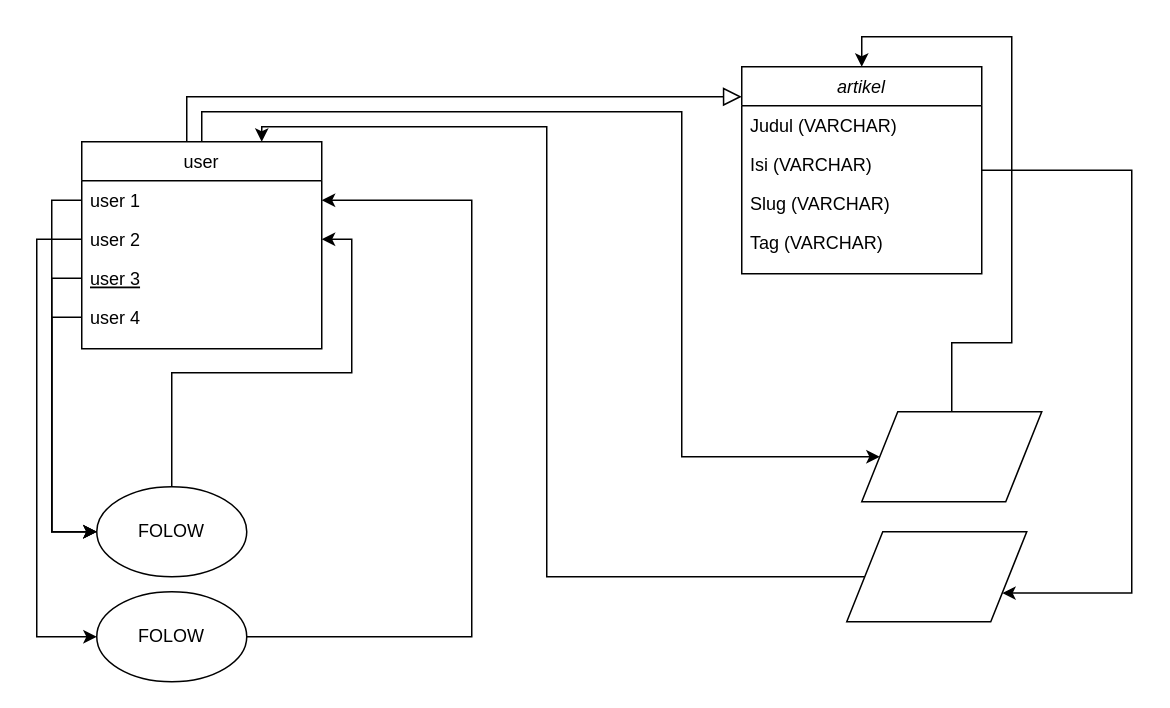
Some shapes in this 1170 by 708 pixel diagram are drawn without their labels. The centre of each missing label's shape, as x and y in pixels:
Baca artikel: [936,576]
Buat artikel: [951,456]
